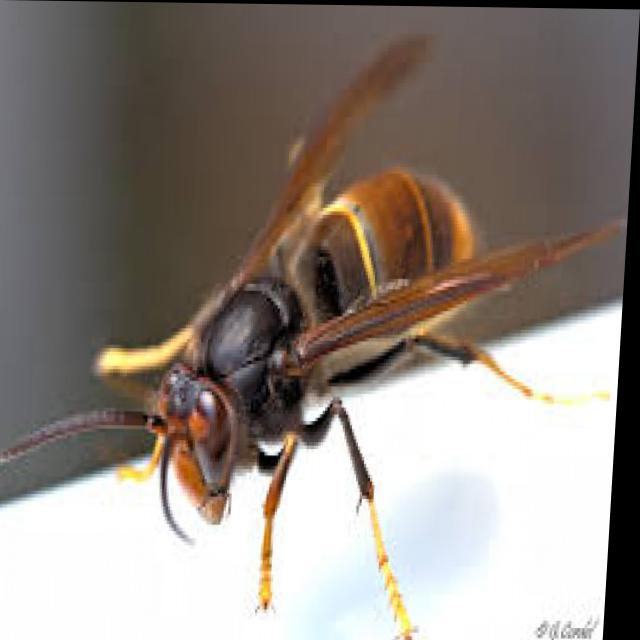Vespa Velutina: (0, 10, 638, 639)
